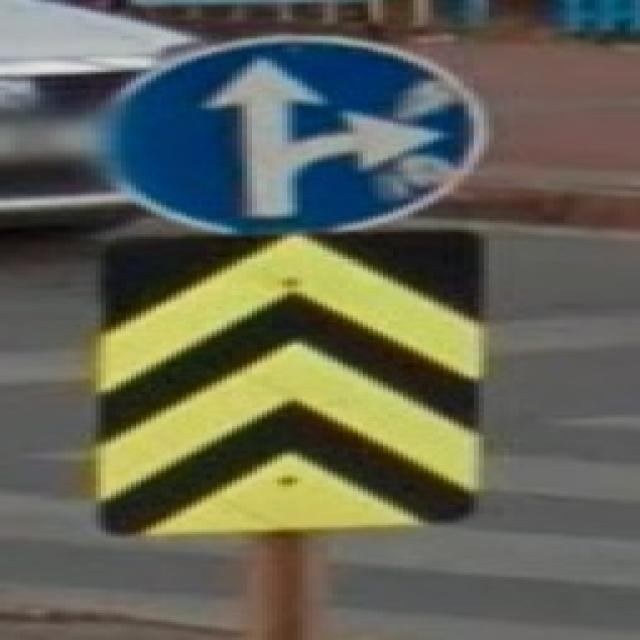Straight or Right: (94, 39, 472, 224)
